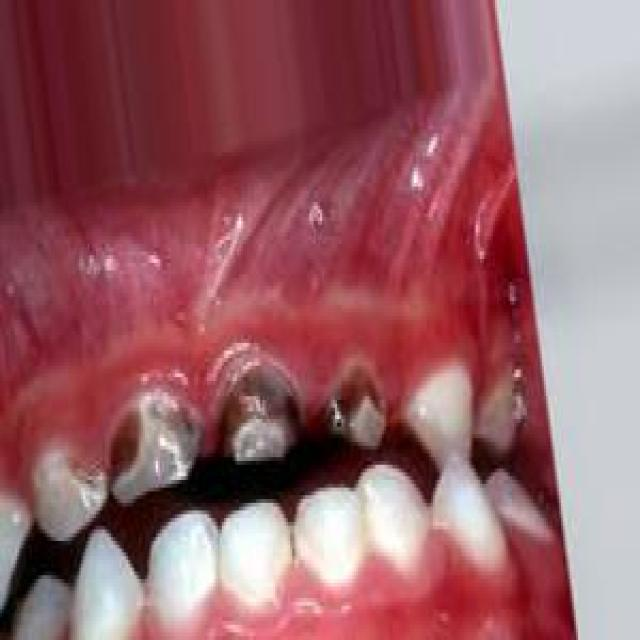caries: (107, 395, 204, 514), (218, 356, 307, 479), (320, 363, 391, 462), (51, 449, 108, 523)
